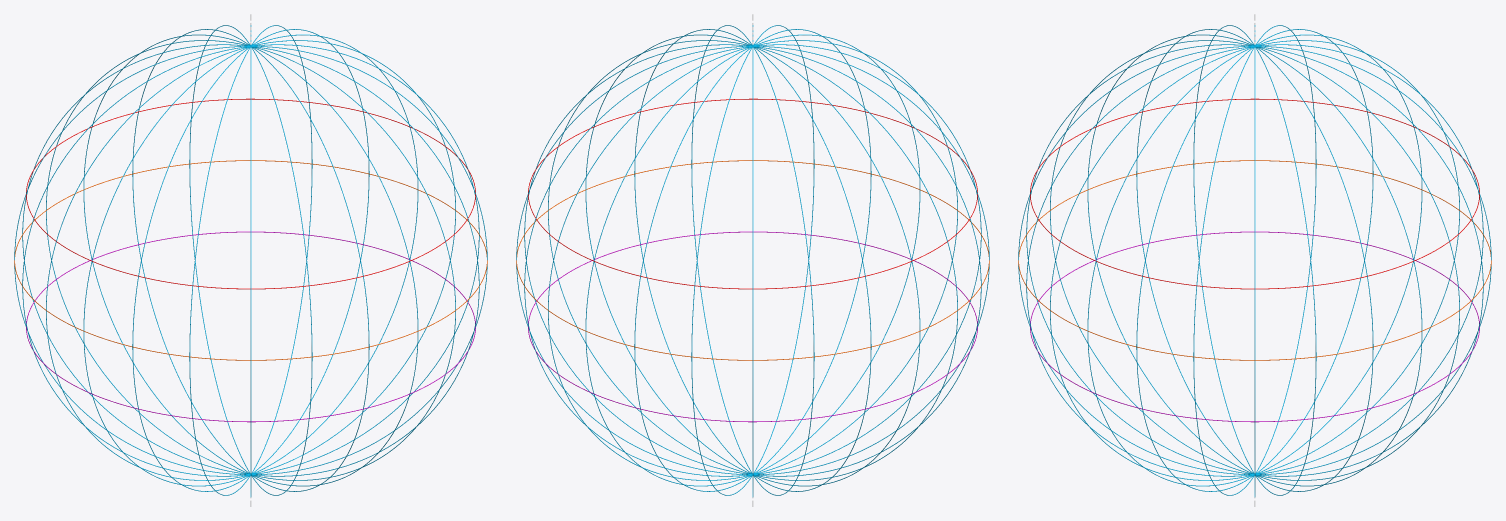
Rendered from shiqu.FBX.
3 renders of one model, left to right at view 1: azimuth 30°, elevation 25°; view 2: azimuth 150°, elevation 25°; view 3: azimuth 270°, elevation 25°, orthographic.
Parts seen in each view (by area): view 1: Circle001, Circle025, Circle027, Circle026; view 2: Circle001, Circle025, Circle027, Circle026; view 3: Circle001, Circle025, Circle027, Circle026.
Boxes of the visible parts, box(x1,y1,x2,y2) form: Circle001: box(14, 25, 487, 496); Circle025: box(14, 160, 487, 360); Circle027: box(26, 231, 475, 422); Circle026: box(26, 98, 475, 289); Circle001: box(516, 25, 989, 496); Circle025: box(516, 160, 989, 360); Circle027: box(528, 231, 977, 422); Circle026: box(528, 98, 977, 289); Circle001: box(1018, 25, 1491, 496); Circle025: box(1018, 160, 1491, 360); Circle027: box(1030, 231, 1479, 422); Circle026: box(1030, 98, 1479, 289).
Size of the model in its own units: 200 by 230 by 200.
